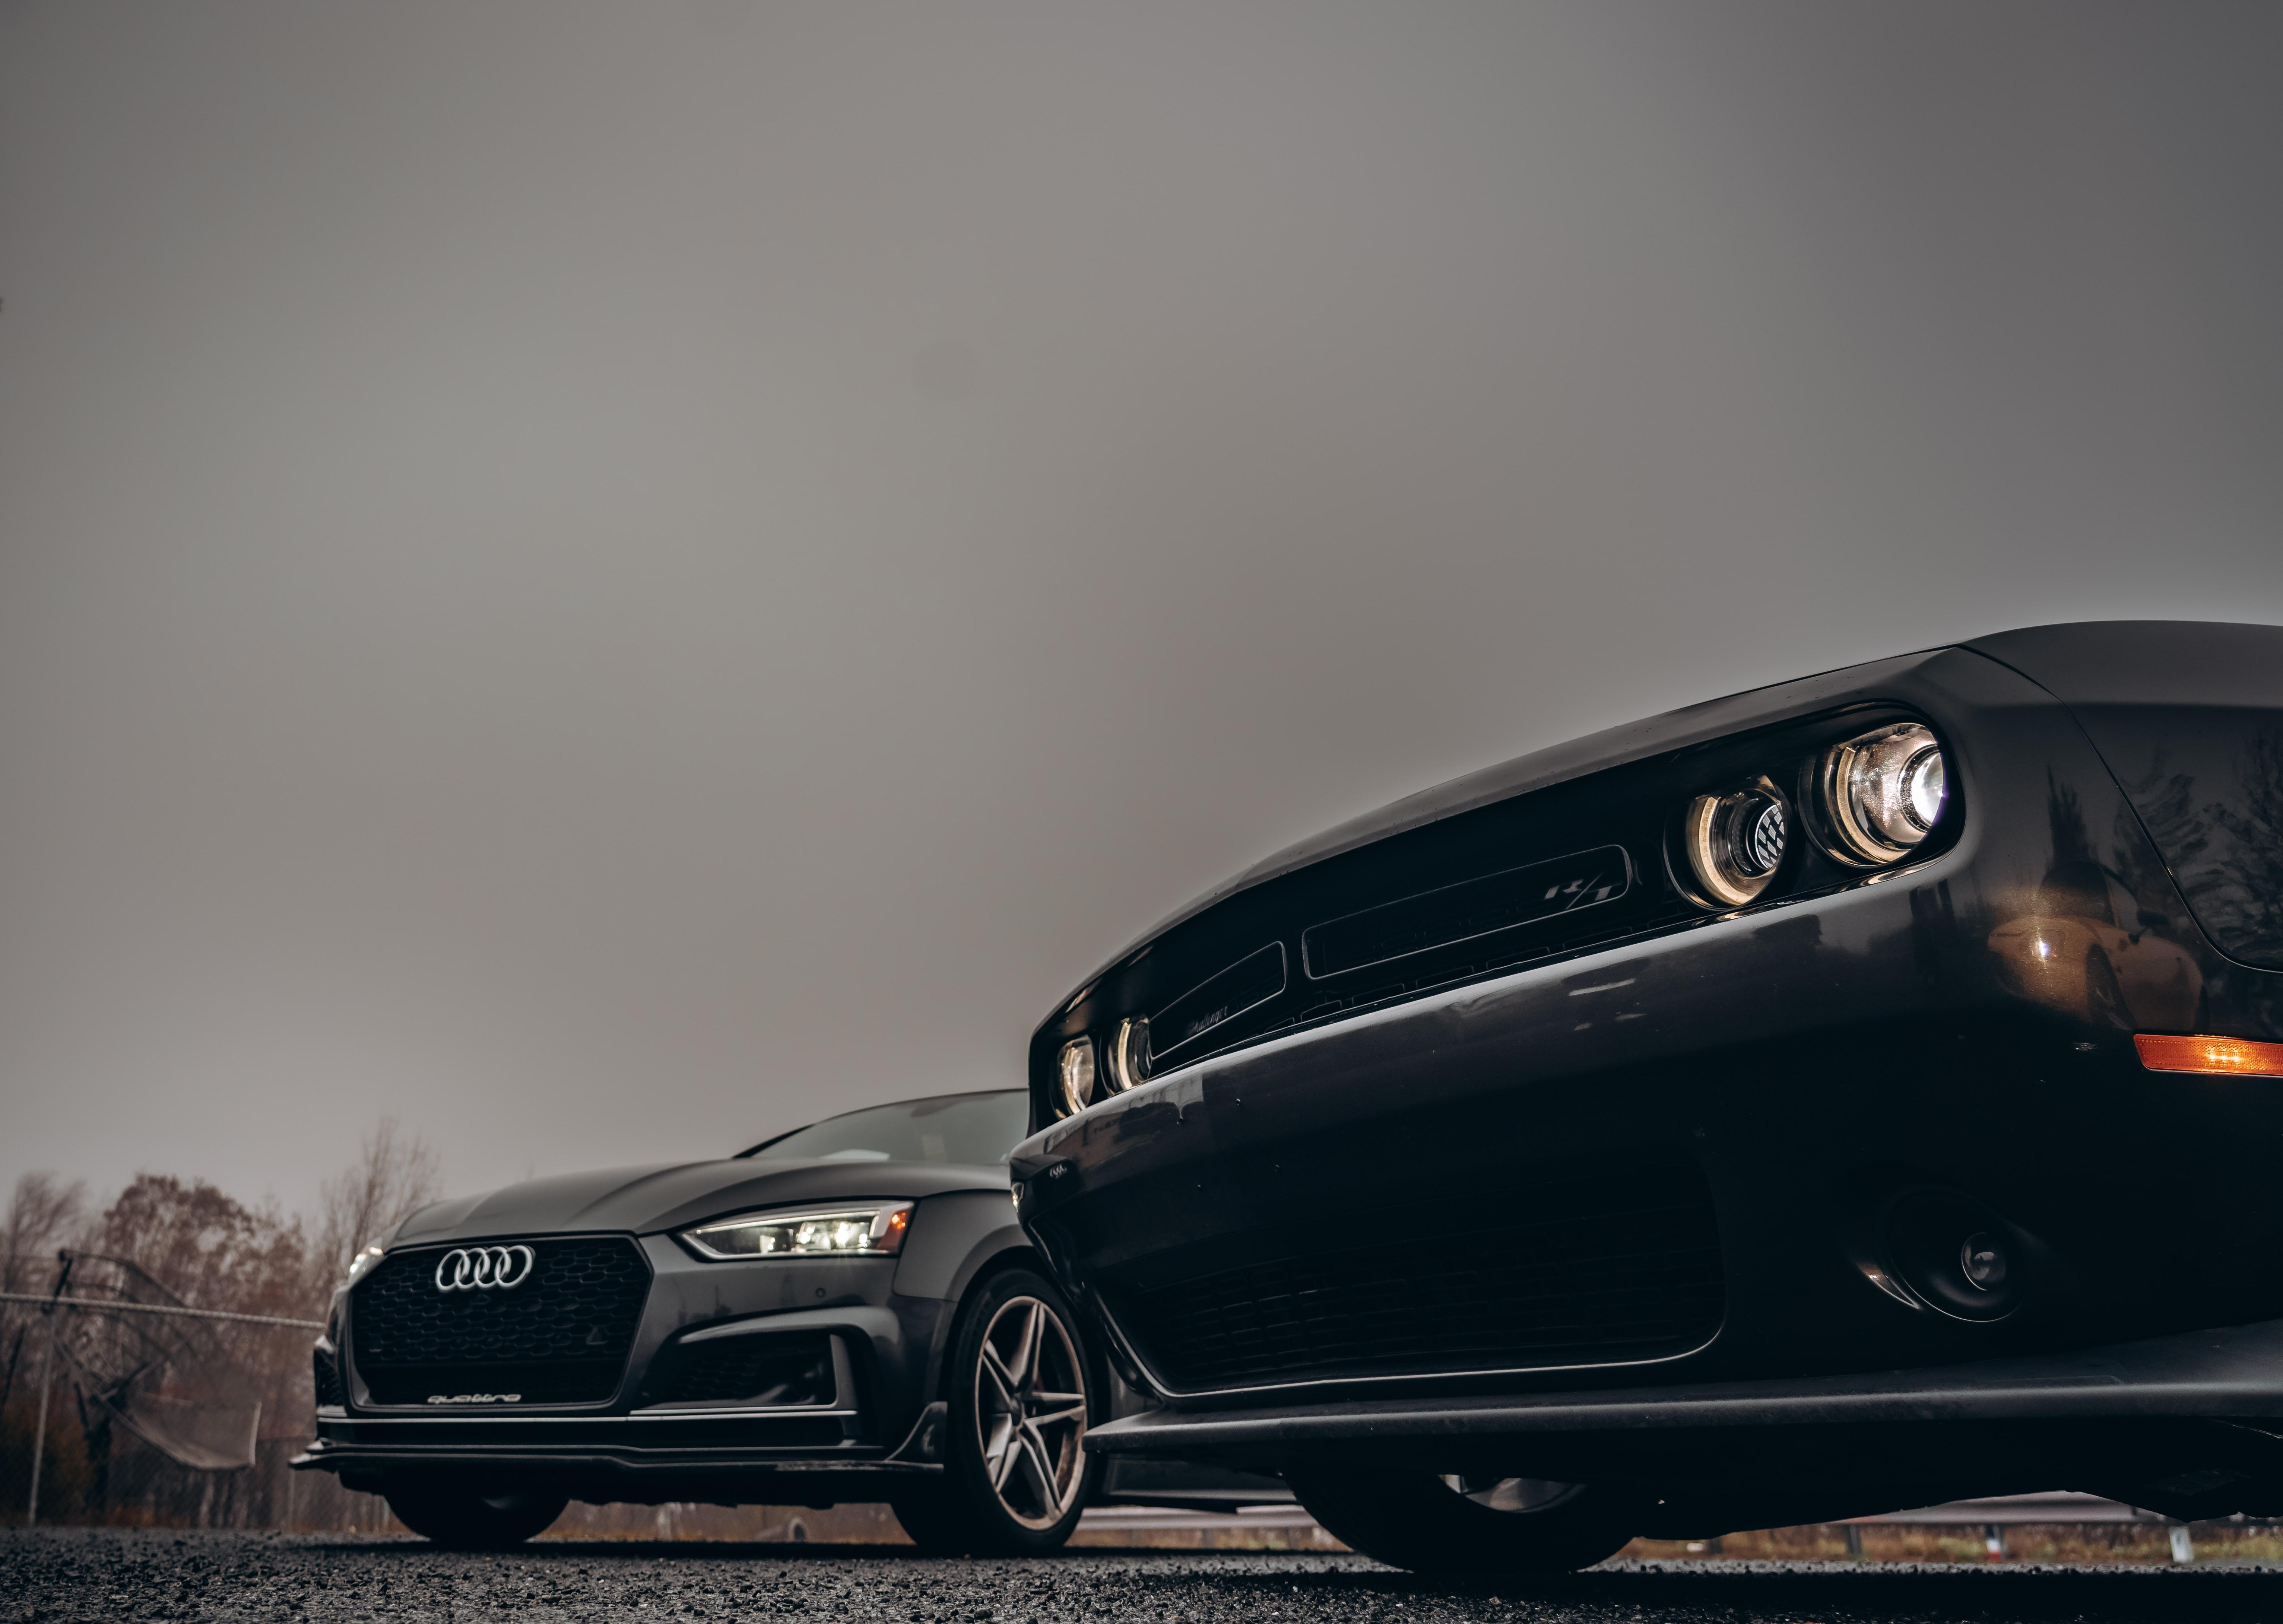Audi: (413, 1230, 554, 1308)
